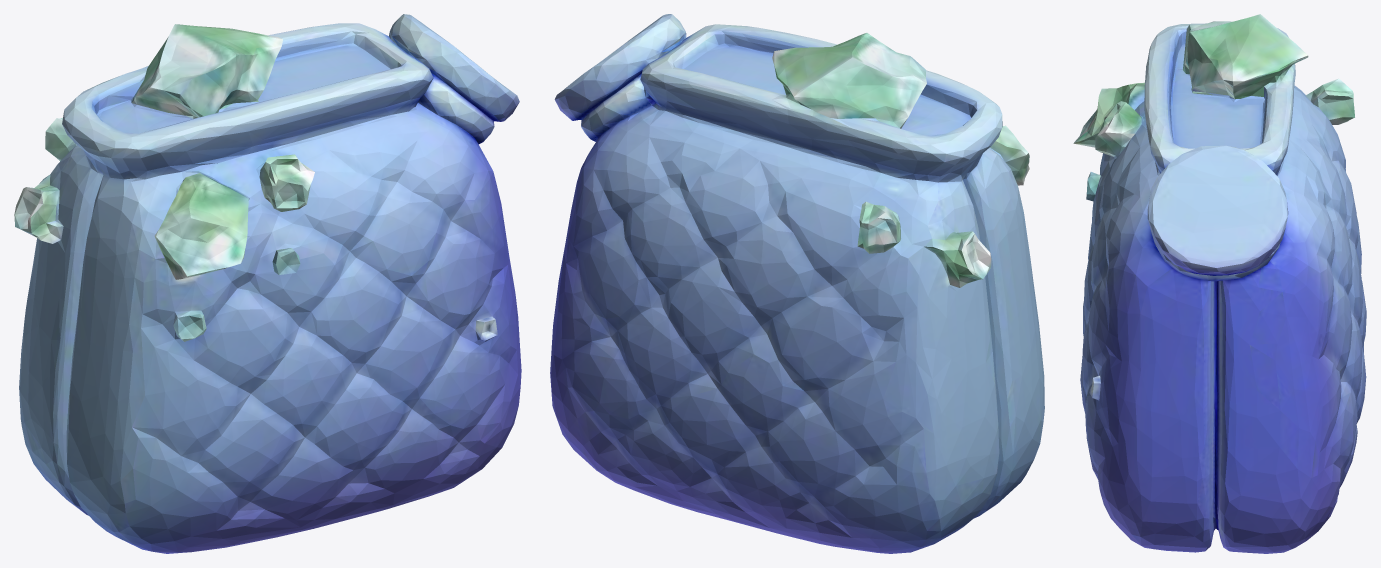
File: cool_pack.glb
3 renders of one model, left to right at view 1: azimuth 30°, elevation 25°; view 2: azimuth 150°, elevation 25°; view 3: azimuth 270°, elevation 25°, orthographic. The views are drawn at different scales.
Parts seen in each view (by area): view 1: tmpkx_mucr4.ply; view 2: tmpkx_mucr4.ply; view 3: tmpkx_mucr4.ply.
Boxes of the visible parts, bbox=[...] form: tmpkx_mucr4.ply: bbox=[14, 14, 521, 553]; tmpkx_mucr4.ply: bbox=[550, 14, 1044, 553]; tmpkx_mucr4.ply: bbox=[1073, 14, 1366, 553].
Size of the model in its own units: 1.97 by 2 by 1.19.
1 material, 1 textured.
